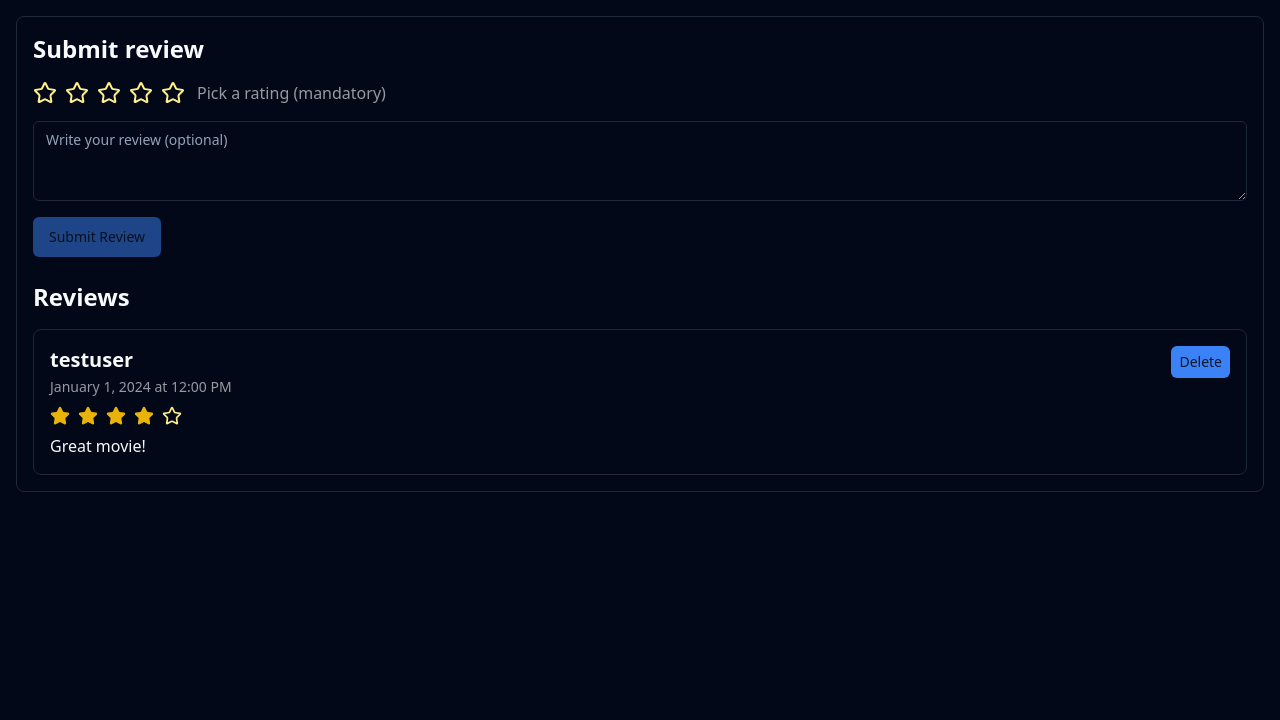
Test case: MovieReviews › enables submit button when rating is selected
This screenshot has width=1280, height=720.
Click the radio button named "5 star".
click(173, 93)  # box [161,81,185,105]
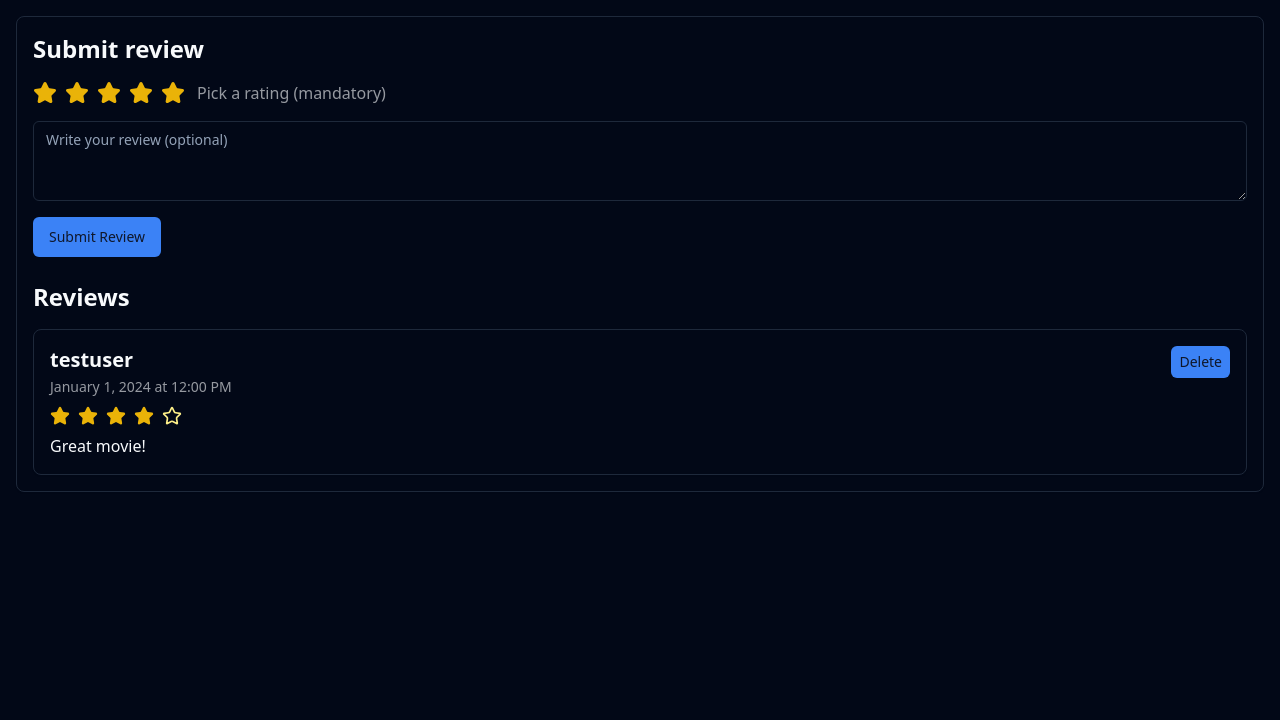
expect the button "Submit Review" is enabled: met, box [33,217,161,257]
